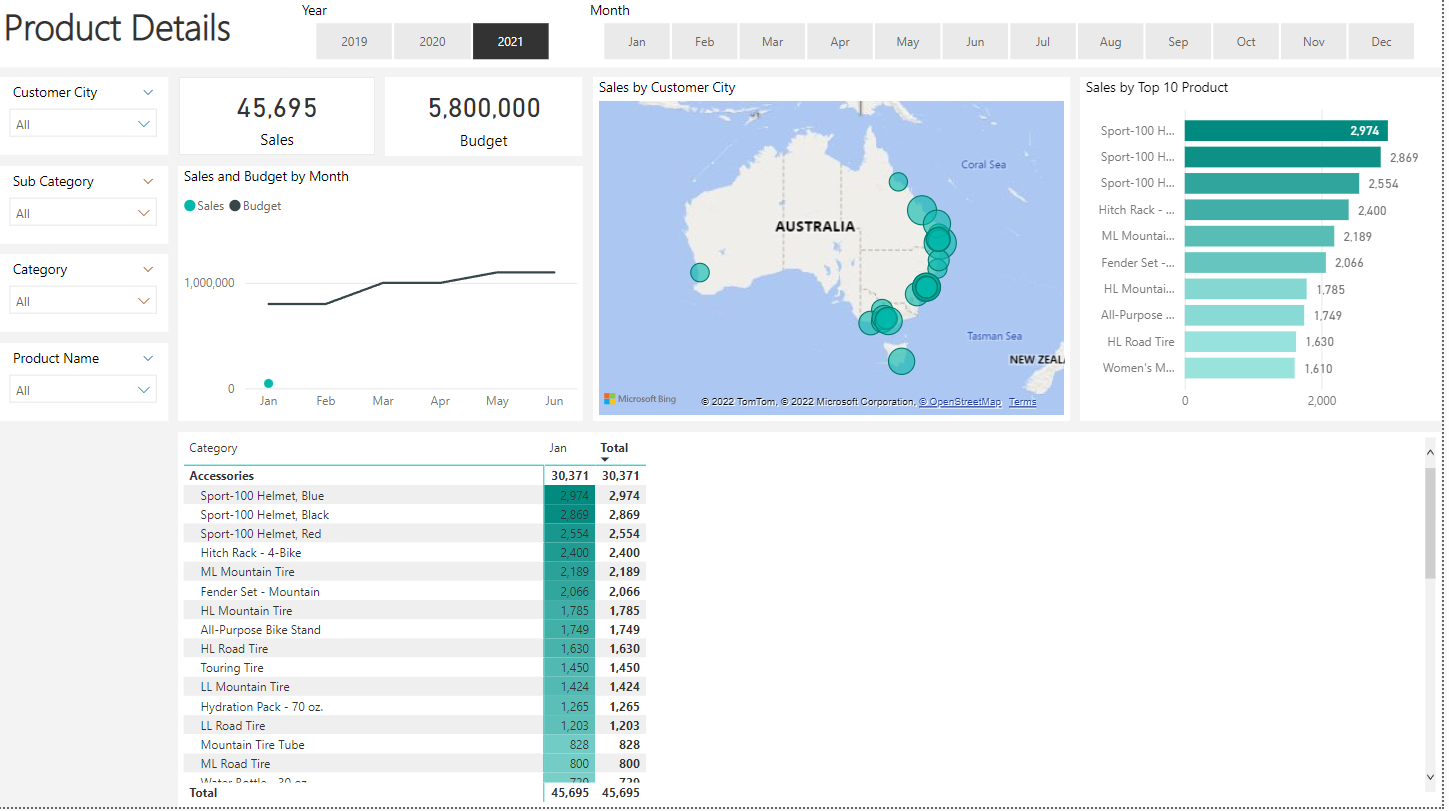

What the dashboard file says about the page in this screenshot:
{"tool":"powerbi","page":{"name":"Product Details","canvas":[1280,720],"ordinal":2},"visuals":[{"type":"textbox","box":[0,0,1280,64],"z":0},{"type":"slicer","fields":{"Values":["DIM_Calendar.Year"]},"box":[256,0,256,64],"z":1000},{"type":"slicer","fields":{"Values":["DIM_Calendar.MonthShort"]},"box":[512,0,768,64],"z":2000},{"type":"slicer","fields":{"Values":["DIM_Customers.Customer City"]},"box":[0,73,150.5,69.3],"z":3000},{"type":"slicer","fields":{"Values":["DIM_Products.Product Category"]},"box":[0,229.9,150.5,69.3],"z":4000},{"type":"slicer","fields":{"Values":["DIM_Products.Product Name"]},"box":[0,308.4,150.5,69.3],"z":5000},{"type":"slicer","fields":{"Values":["DIM_Products.Sub Category"]},"box":[0,151.4,150.5,69.3],"z":6000},{"type":"lineChart","fields":{"Category":["DIM_Calendar.MonthShort"],"Y":["Analysis Metrics.Sales","Analysis Metrics.Budget"]},"box":[159.8,151.8,358.7,226.4],"z":7000},{"type":"card","fields":{"Values":["Analysis Metrics.Sales"]},"box":[160.7,72.8,174,69.2],"z":8000},{"type":"map","fields":{"Category":["DIM_Customers.Customer City"],"Size":["Analysis Metrics.Sales"]},"box":[527.3,72.8,423.5,304.5],"z":9000},{"type":"card","fields":{"Values":["Analysis Metrics.Budget"]},"box":[343.6,72.8,174.9,70.1],"z":10000},{"type":"pivotTable","fields":{"Rows":["DIM_Products.Product Category","DIM_Products.Product Name"],"Columns":["DIM_Calendar.MonthShort"],"Values":["Analysis Metrics.Sales"]},"box":[159.8,387.1,1120.4,332.9],"z":11000},{"type":"clusteredBarChart","title":"Sales by Top 10 Product","fields":{"Category":["DIM_Products.Product Name"],"Y":["Analysis Metrics.Sales"]},"box":[959.7,72.8,320.5,304.5],"z":12000}]}

Visuals, with their boxes in screenshot pixels (x1, y1, x2, y2), scaled from the page's 1280x720 canvas onto the 1449x811 screenshot:
textbox: locate(0, 0, 1448, 72)
slicer - DIM_Calendar.Year: locate(290, 0, 580, 72)
slicer - DIM_Calendar.MonthShort: locate(580, 0, 1448, 72)
slicer - DIM_Customers.Customer City: locate(0, 82, 170, 160)
slicer - DIM_Products.Product Category: locate(0, 259, 170, 337)
slicer - DIM_Products.Product Name: locate(0, 347, 170, 425)
slicer - DIM_Products.Sub Category: locate(0, 171, 170, 249)
lineChart - DIM_Calendar.MonthShort x Analysis Metrics.Sales: locate(181, 171, 587, 426)
card - Analysis Metrics.Sales: locate(182, 82, 379, 160)
map - DIM_Customers.Customer City x Analysis Metrics.Sales: locate(597, 82, 1076, 425)
card - Analysis Metrics.Budget: locate(389, 82, 587, 161)
pivotTable - DIM_Products.Product Category x DIM_Products.Product Name: locate(181, 436, 1448, 810)
"Sales by Top 10 Product" clusteredBarChart: locate(1086, 82, 1448, 425)
